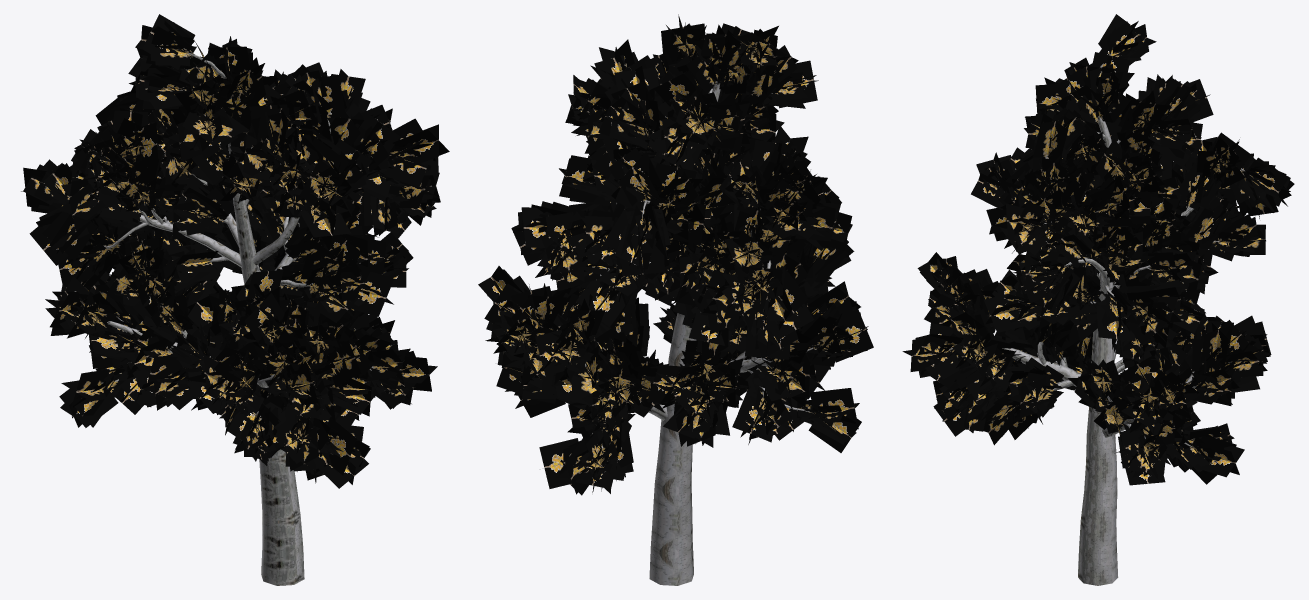
The model's file is eztree-american-beech-stand-b.glb.
The picture shows the model from 3 angles, left to right: view 1: azimuth 30°, elevation 25°; view 2: azimuth 150°, elevation 25°; view 3: azimuth 270°, elevation 25°; orthographic projection. The views are drawn at different scales.
Visible parts, largest first — view 1: eztree-american-beech-stand-b; view 2: eztree-american-beech-stand-b; view 3: eztree-american-beech-stand-b.
Part boxes in pixels (x1,y1,x2,y2): eztree-american-beech-stand-b: (21, 14, 449, 585); eztree-american-beech-stand-b: (478, 14, 873, 585); eztree-american-beech-stand-b: (902, 14, 1294, 585).
Bounding box in the file's own units: 47.8 × 70.12 × 48.61.
Materials: 2 (2 with a texture image).
